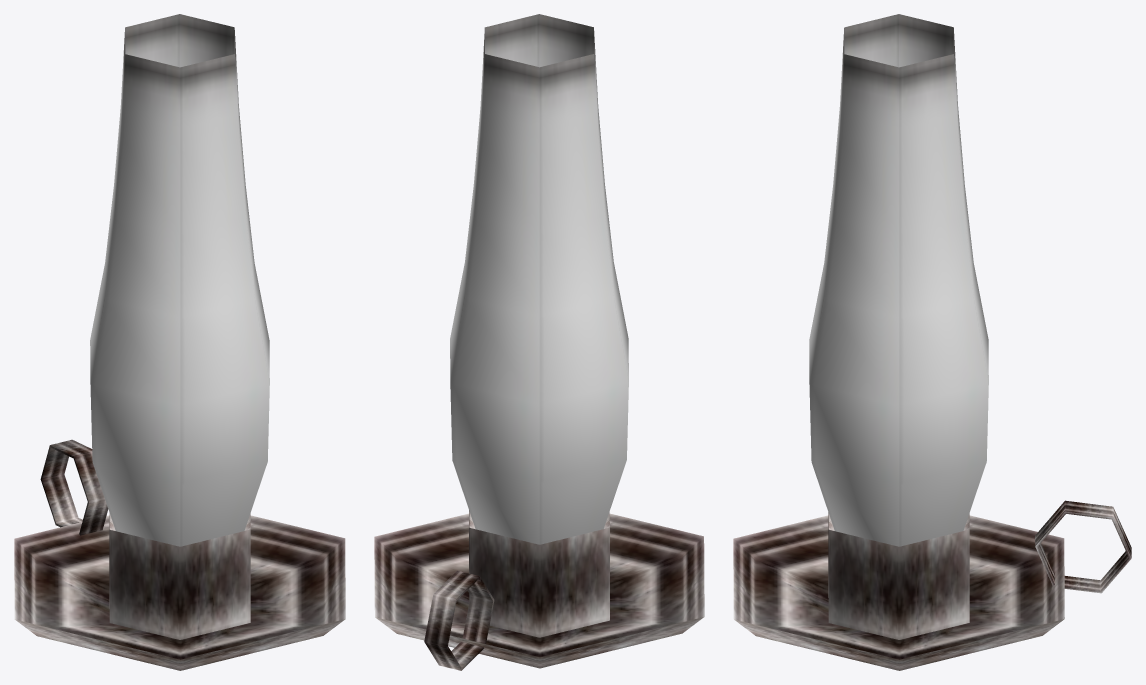
Rendered from lamp_table_hurricane_candle.fbx.
3 renders of one model, left to right at view 1: azimuth 30°, elevation 25°; view 2: azimuth 150°, elevation 25°; view 3: azimuth 270°, elevation 25°, orthographic.
Parts seen in each view (by area): view 1: lamp_glass, polySurface2, polySurface1, lamp_glass2, polySurface3; view 2: lamp_glass, polySurface2, polySurface1, lamp_glass2, polySurface3; view 3: lamp_glass, polySurface2, polySurface1, lamp_glass2, polySurface3.
Boxes of the visible parts, x1,y1,x2,y2 form: lamp_glass: [90, 30, 269, 546]; polySurface2: [14, 515, 345, 670]; polySurface1: [109, 512, 250, 639]; lamp_glass2: [125, 14, 234, 67]; polySurface3: [40, 439, 108, 535]; lamp_glass: [450, 27, 628, 544]; polySurface2: [374, 513, 704, 668]; polySurface1: [469, 510, 609, 637]; lamp_glass2: [485, 14, 593, 67]; polySurface3: [424, 570, 494, 670]; lamp_glass: [809, 28, 988, 546]; polySurface2: [733, 515, 1064, 670]; polySurface1: [828, 512, 969, 639]; lamp_glass2: [844, 14, 953, 67]; polySurface3: [1035, 500, 1131, 593].
Bounding box in the file's own units: 94.23 × 159 × 98.22.
2 materials, 2 textured.
